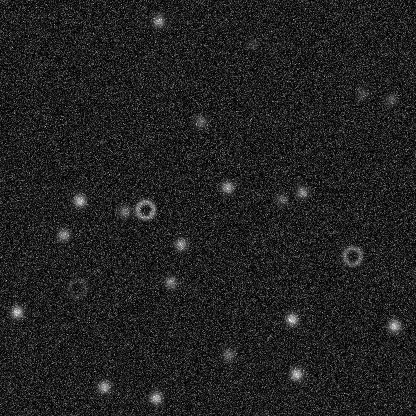Ring: (133, 197, 157, 221), (340, 243, 364, 267), (65, 276, 89, 300)
Spot: (382, 91, 398, 107), (71, 192, 87, 208), (55, 226, 71, 242), (288, 366, 304, 382), (283, 311, 299, 327), (8, 304, 24, 320), (147, 389, 163, 405), (116, 203, 132, 219), (172, 236, 188, 252), (354, 85, 370, 101), (219, 179, 235, 195), (192, 113, 208, 129), (162, 274, 178, 290), (294, 184, 310, 200), (385, 317, 401, 333), (150, 12, 166, 28), (96, 378, 112, 394), (220, 346, 236, 362), (273, 191, 289, 207), (244, 36, 260, 52)
